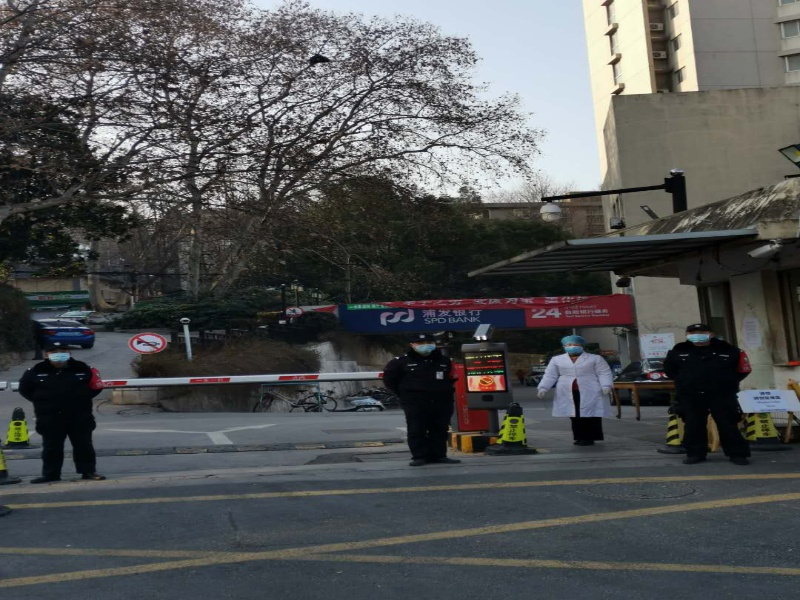ManaoArotava: (680, 313, 722, 362), (401, 323, 448, 365), (35, 332, 80, 373)
